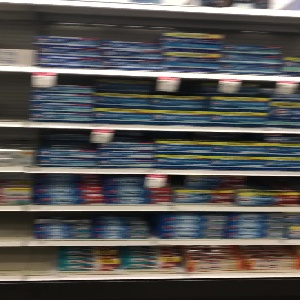void: (1, 245, 55, 277), (1, 72, 28, 124), (1, 209, 33, 242)
